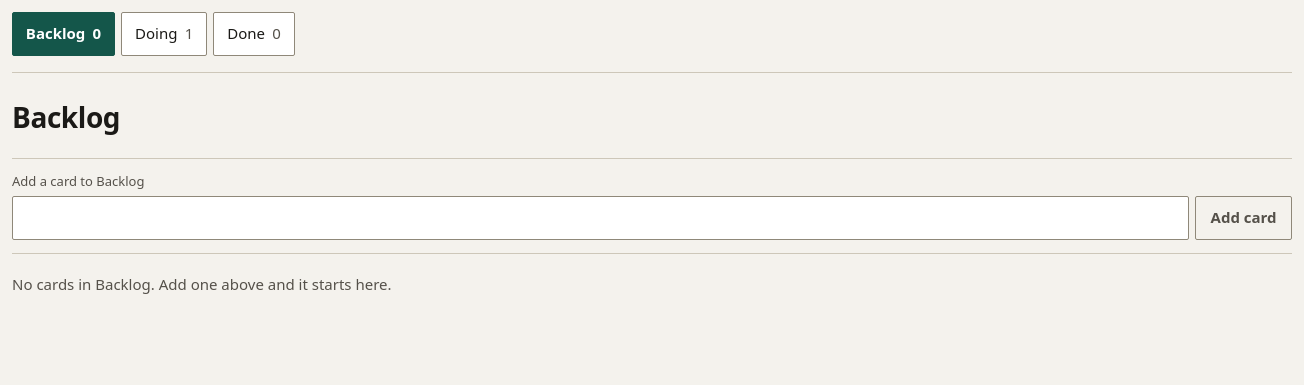
Scenario: Board › shows one status at a time and moves the pressed state with the selection
Expected: the heading "Backlog" is shown, [12,98,120,136]
Step 1. Click the button "Doing 1" → (164, 34), box [121,12,207,56]
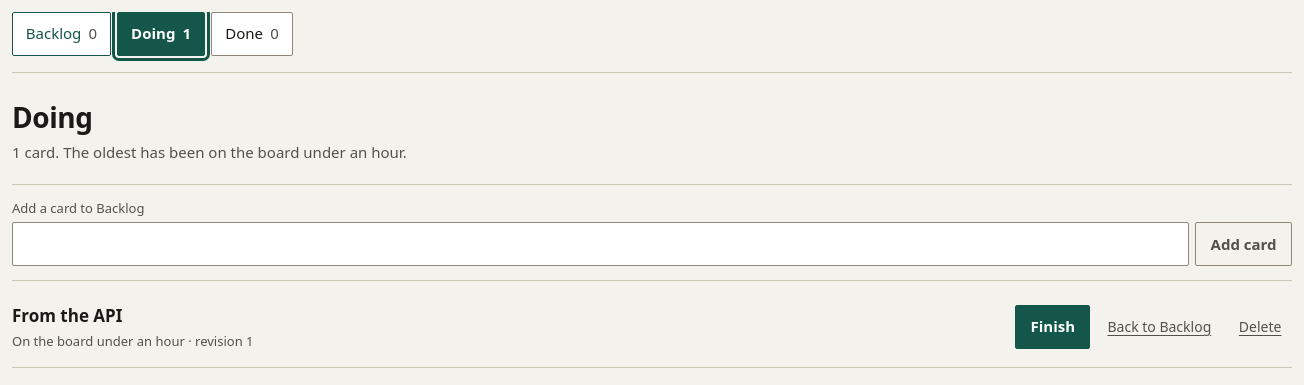
Expected: the heading "Doing" is shown, [12,98,93,136]
Expected: the text "From the API" is shown, [12,304,122,327]
